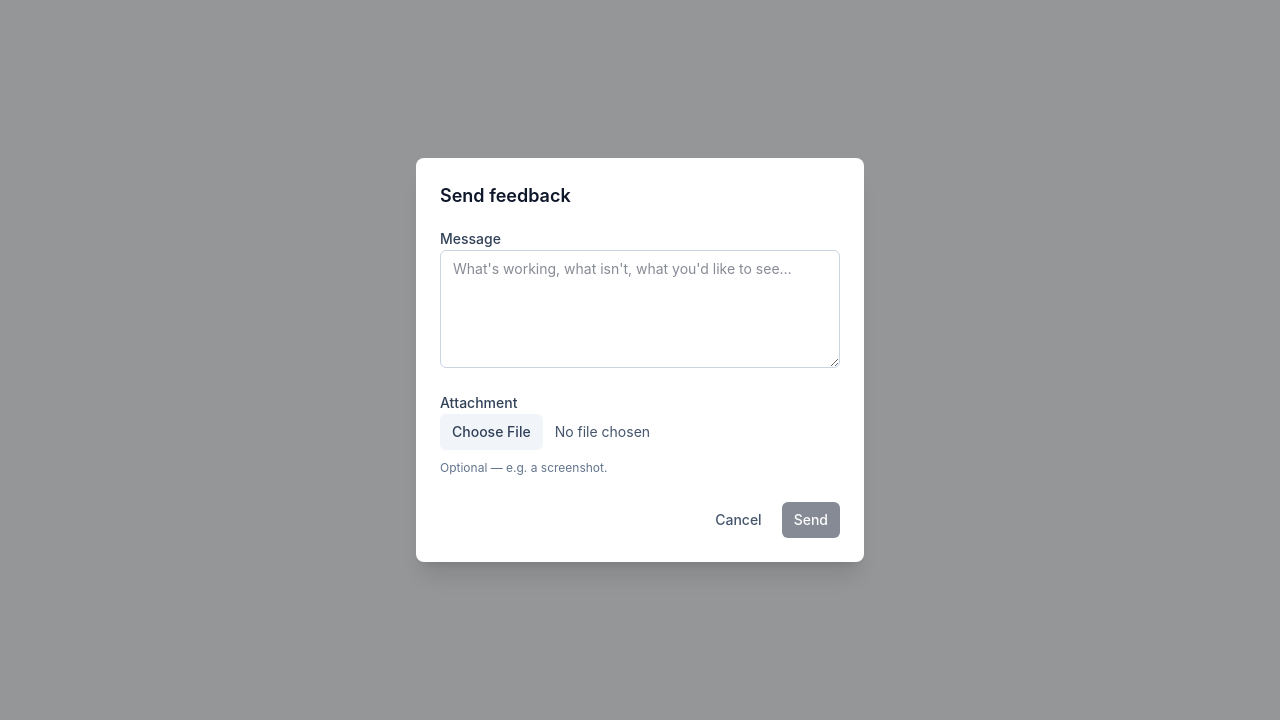
FeedbackForm › sends the trimmed message and confirms with the issue ID
Type "  Great app  " into the text box labelled "Message" at (640, 309), box x1=440 y1=250 x2=840 y2=368
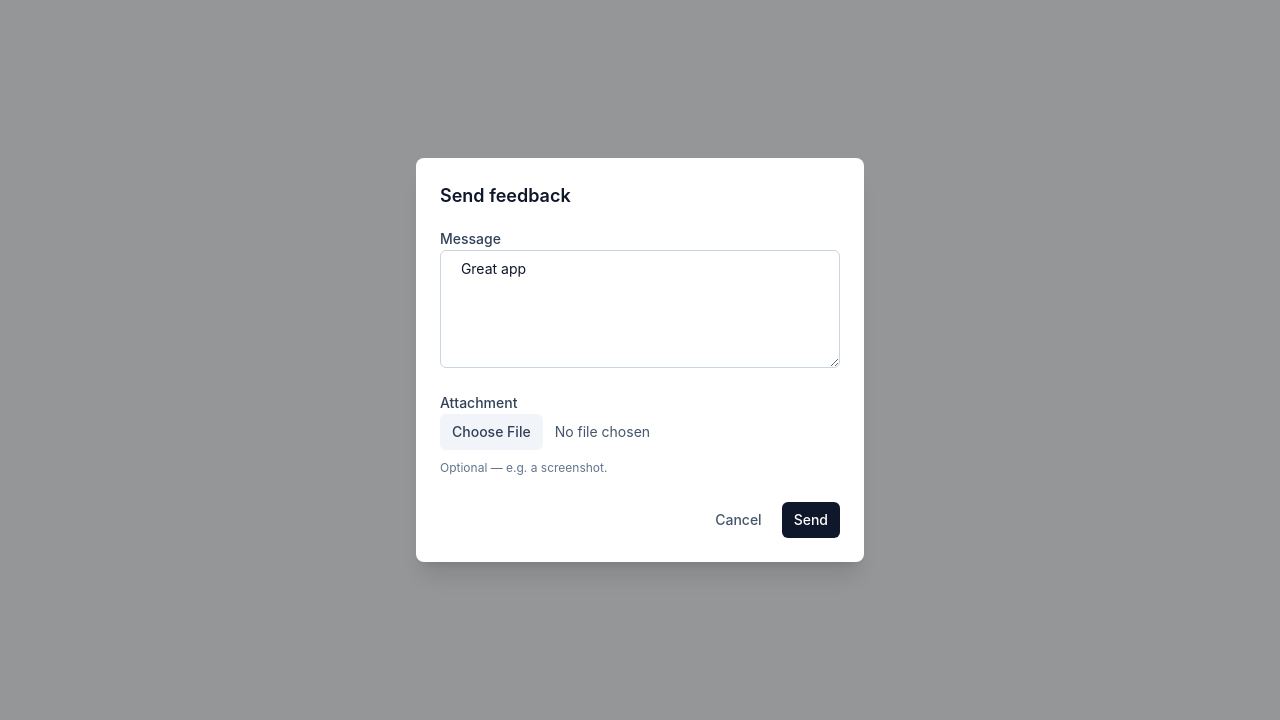
Submit the form, box x1=416 y1=158 x2=864 y2=562
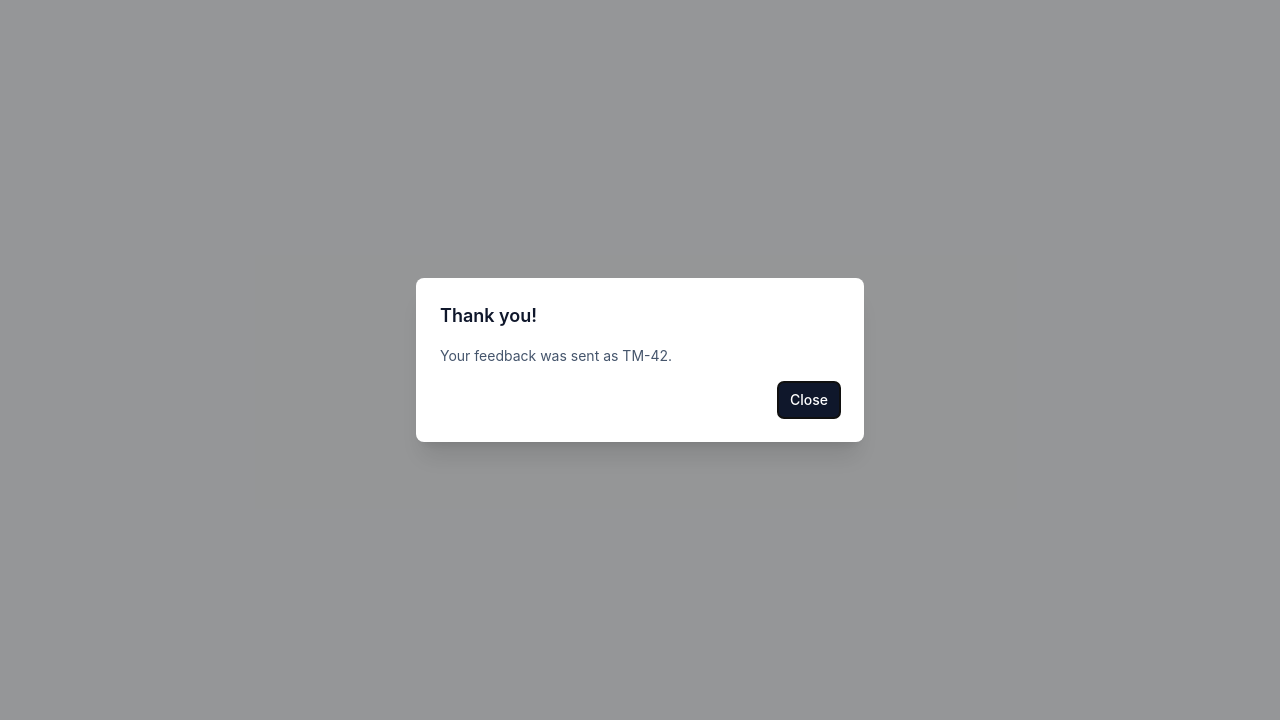
Expected: the message "Thank you! Your feedback was sent as TM-42. Close" is shown, x1=416 y1=278 x2=864 y2=442
Expected: the form is gone
